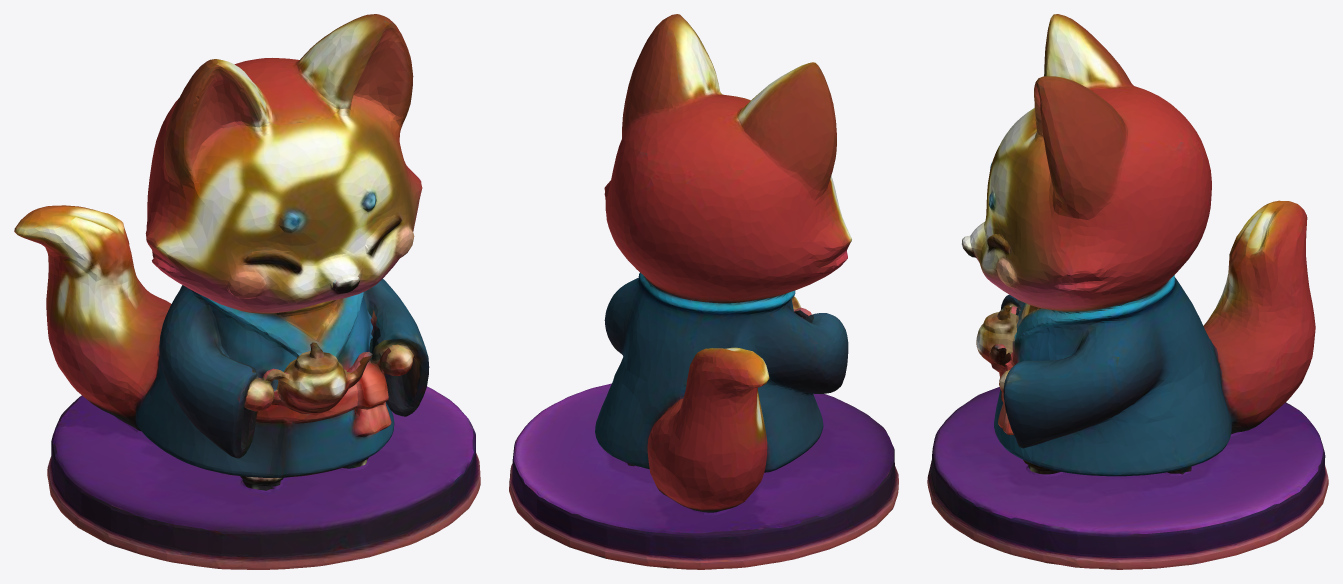
Rendered from fig-24.glb.
3 renders of one model, left to right at view 1: azimuth 30°, elevation 25°; view 2: azimuth 150°, elevation 25°; view 3: azimuth 270°, elevation 25°, orthographic. The views are drawn at different scales.
Visible parts, largest first — view 1: tmpukxenk9i.ply; view 2: tmpukxenk9i.ply; view 3: tmpukxenk9i.ply.
Boxes of the visible parts, x1,y1,x2,y2 form: tmpukxenk9i.ply: (14,14,480,569); tmpukxenk9i.ply: (509,14,898,569); tmpukxenk9i.ply: (927,14,1328,569).
Size of the model in its own units: 1.66 by 1.99 by 1.64.
1 material, 1 textured.
